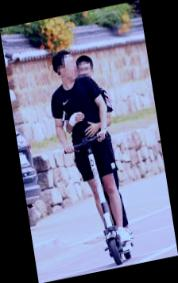multiple: (40, 39, 142, 277)
